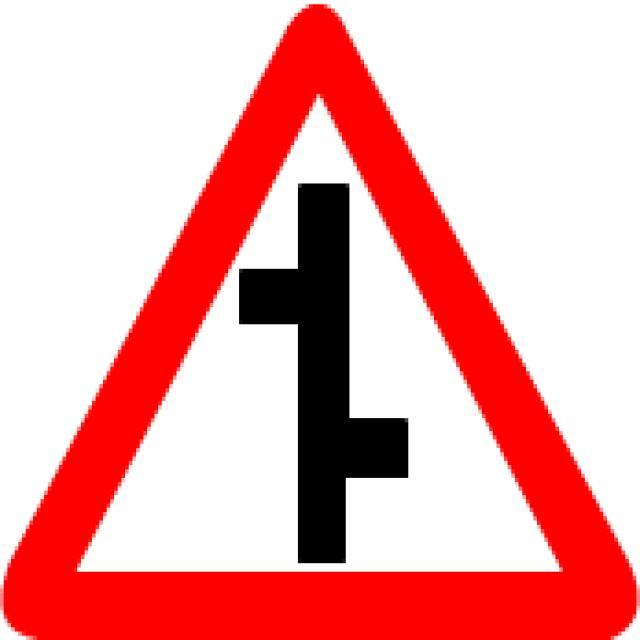staggered intersection: (22, 30, 615, 611)
